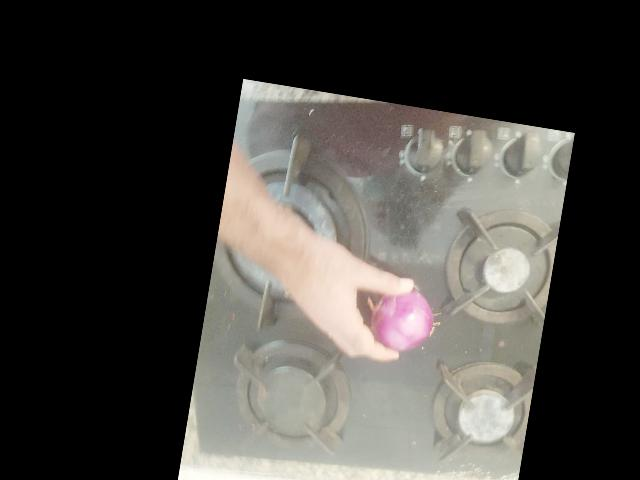onion: (390, 375, 476, 451)
